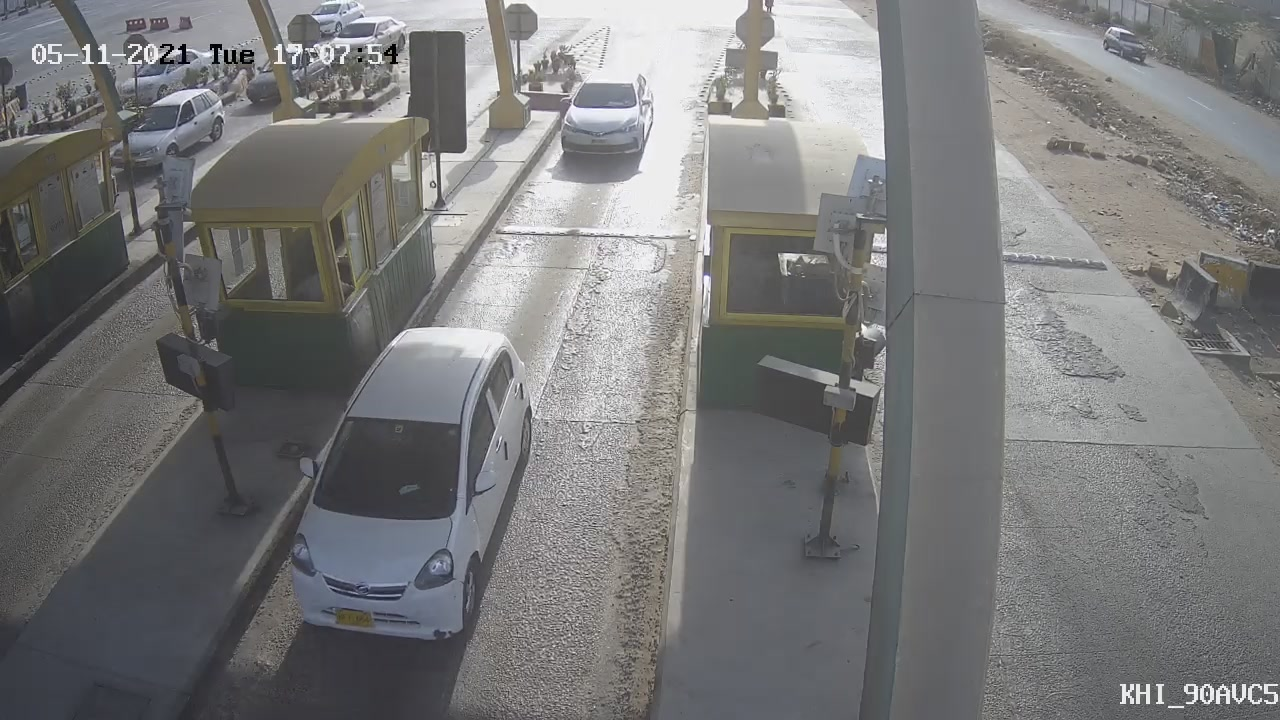F1: (539, 56, 670, 177)
